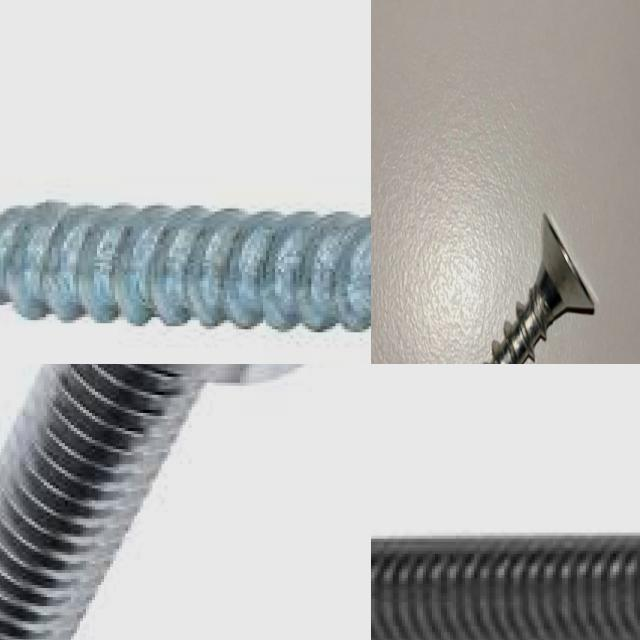Screw: (0, 364, 304, 640), (0, 202, 371, 335), (371, 537, 640, 640), (483, 212, 598, 364)
